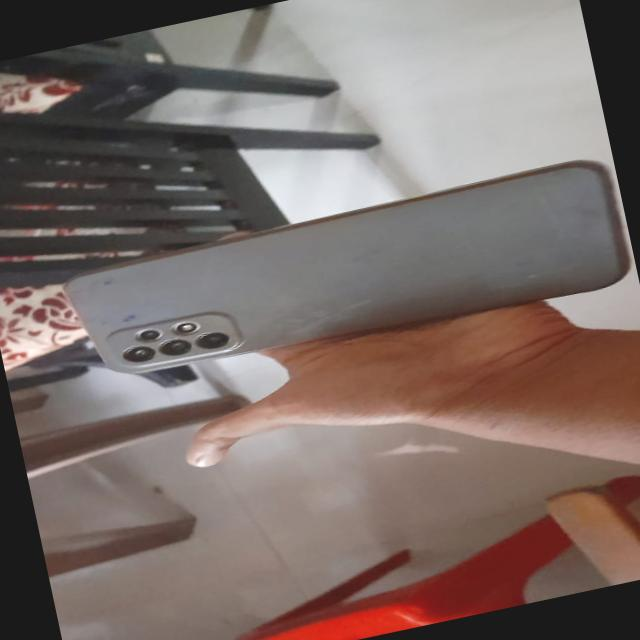Mobile - Recyclable: (55, 137, 640, 409)
